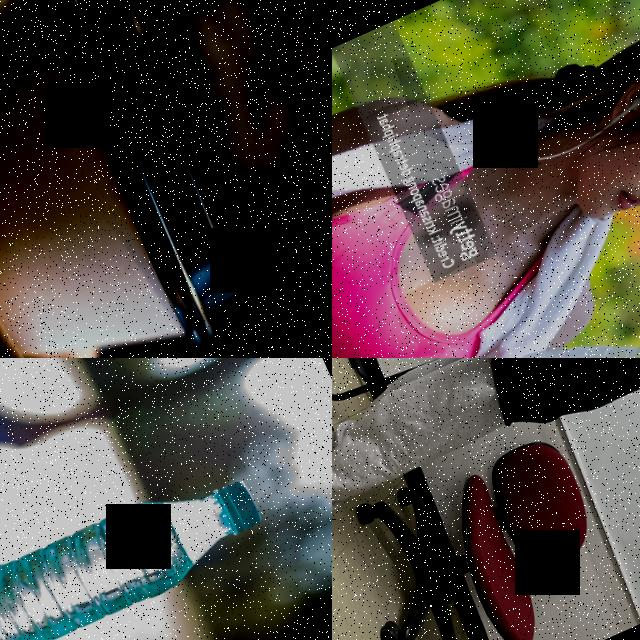bottle: (0, 460, 274, 640), (489, 252, 640, 358)
cup: (0, 0, 276, 358)
